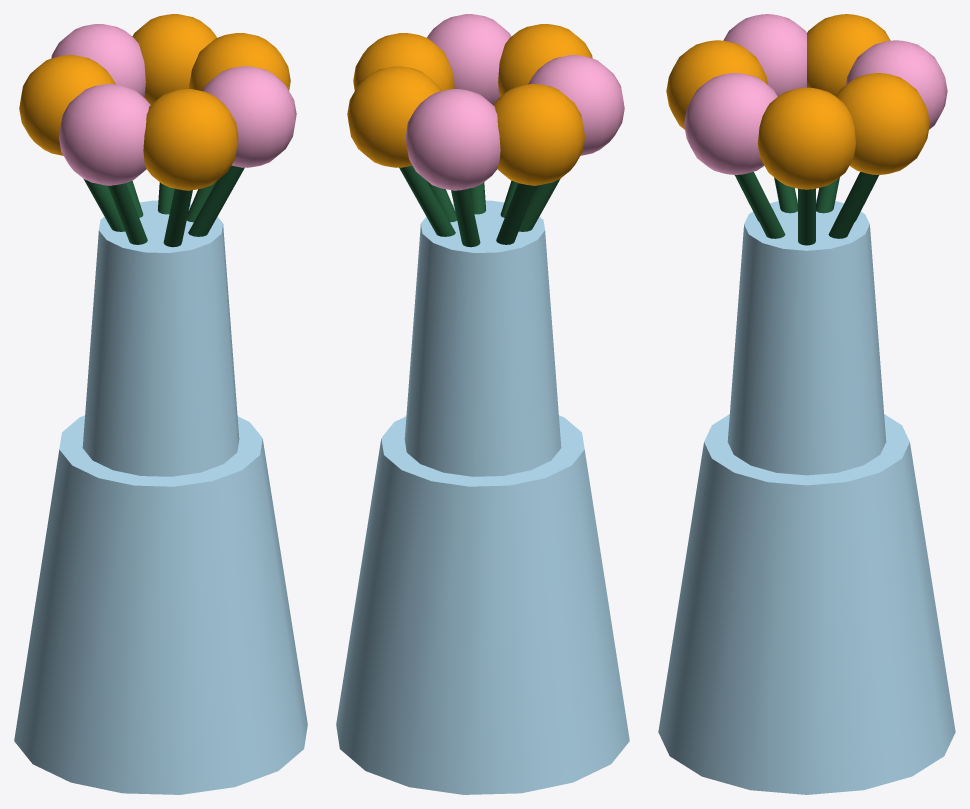
3 views of the same model, side by side, from view 1: azimuth 30°, elevation 25°; view 2: azimuth 150°, elevation 25°; view 3: azimuth 270°, elevation 25° (orthographic).
Parts seen in each view (by area): view 1: tabletop-flower-vase; view 2: tabletop-flower-vase; view 3: tabletop-flower-vase.
Part boxes in pixels (box(x1,y1,x2,y2)): tabletop-flower-vase: box(14, 14, 307, 794); tabletop-flower-vase: box(336, 14, 629, 794); tabletop-flower-vase: box(658, 14, 955, 794).
Size of the model in its own units: 0.26 by 0.655 by 0.26.
